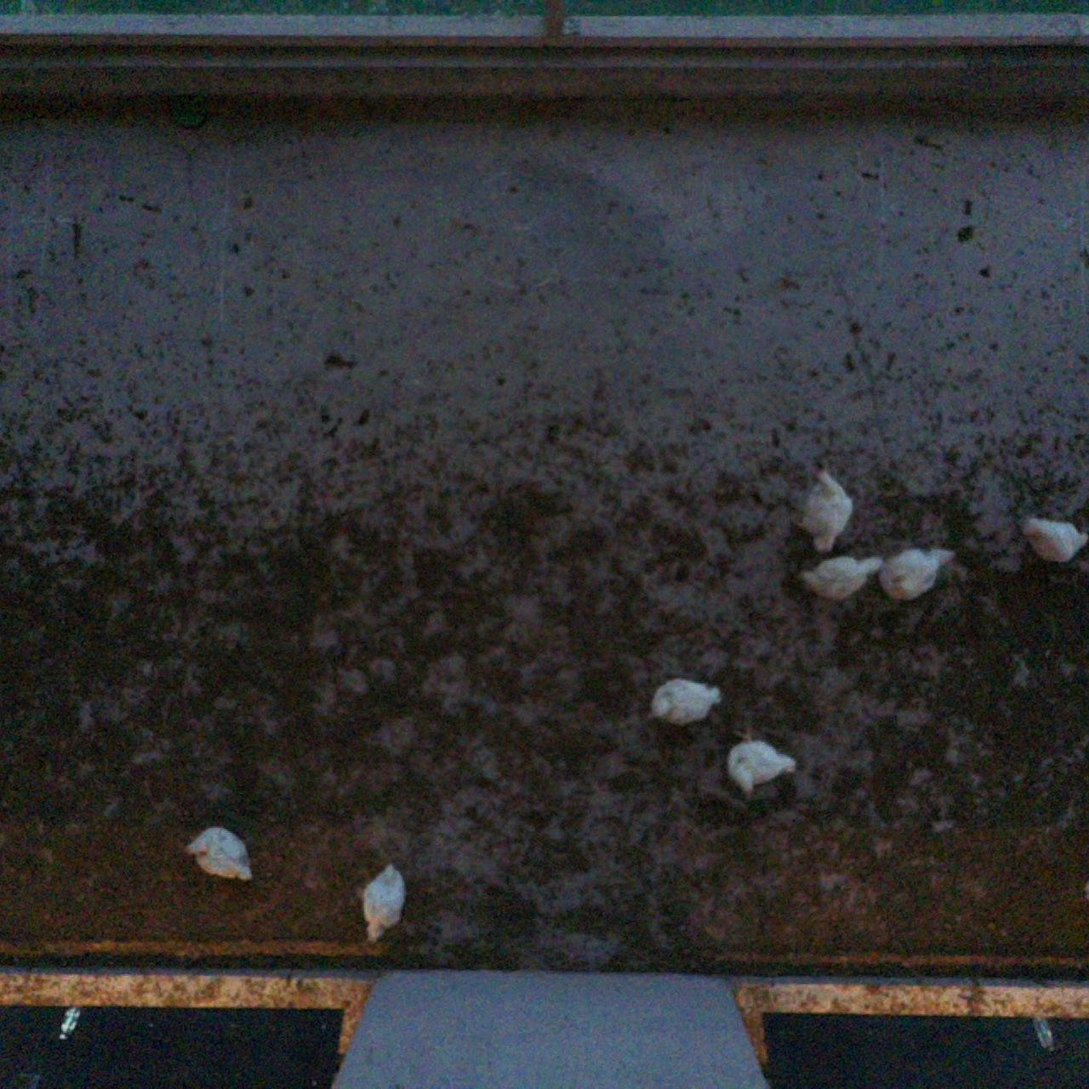chicken: (874, 534, 961, 606), (798, 461, 858, 559), (721, 728, 800, 797), (791, 549, 887, 604), (175, 822, 259, 884), (647, 669, 731, 730), (352, 856, 408, 946), (1012, 505, 1089, 563)
